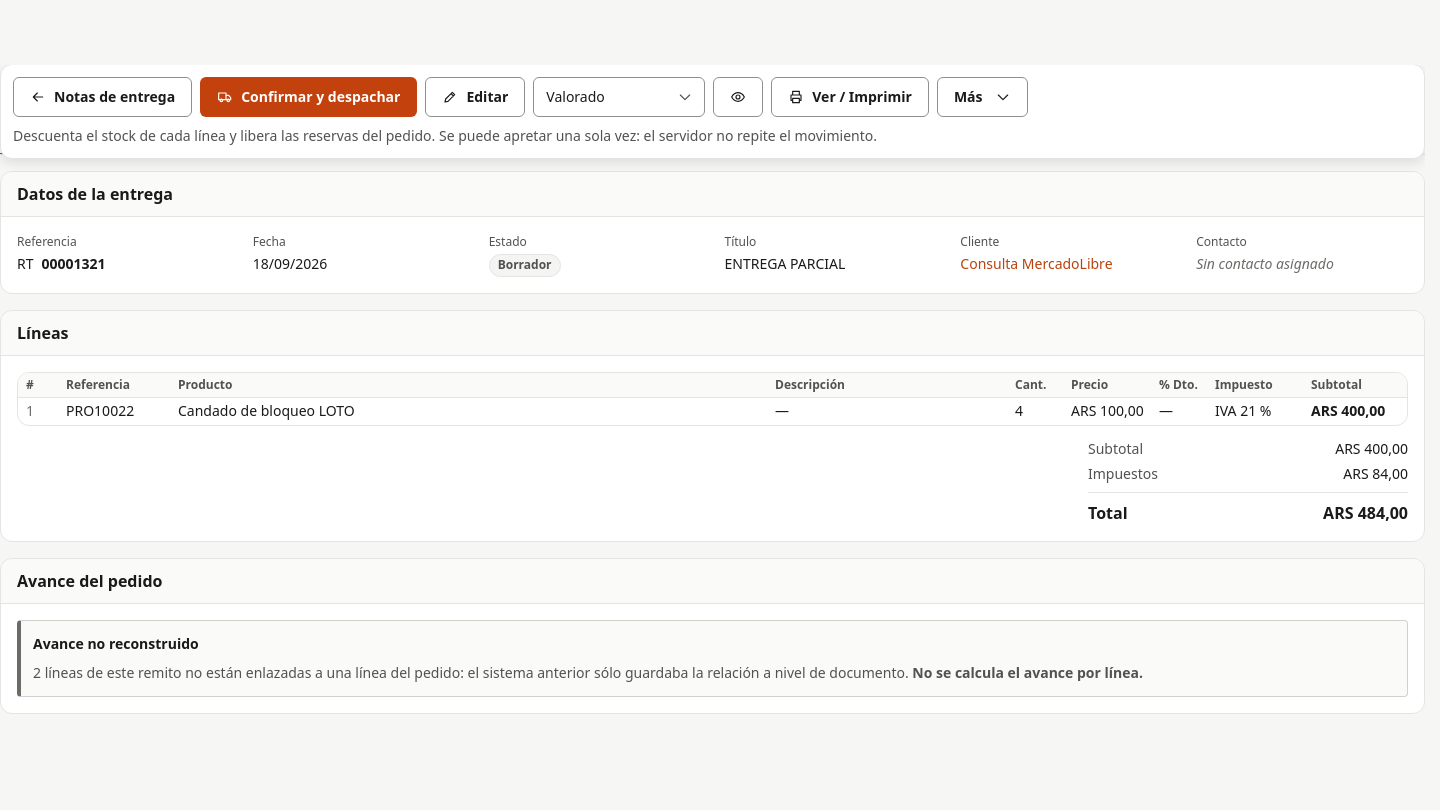
Test: El formulario del remito › es un grupo con nombre, como la cabecera de los otros documentos
This screenshot has width=1440, height=810.
Click the button "Editar".
click(475, 97)  # box [425,77,525,117]
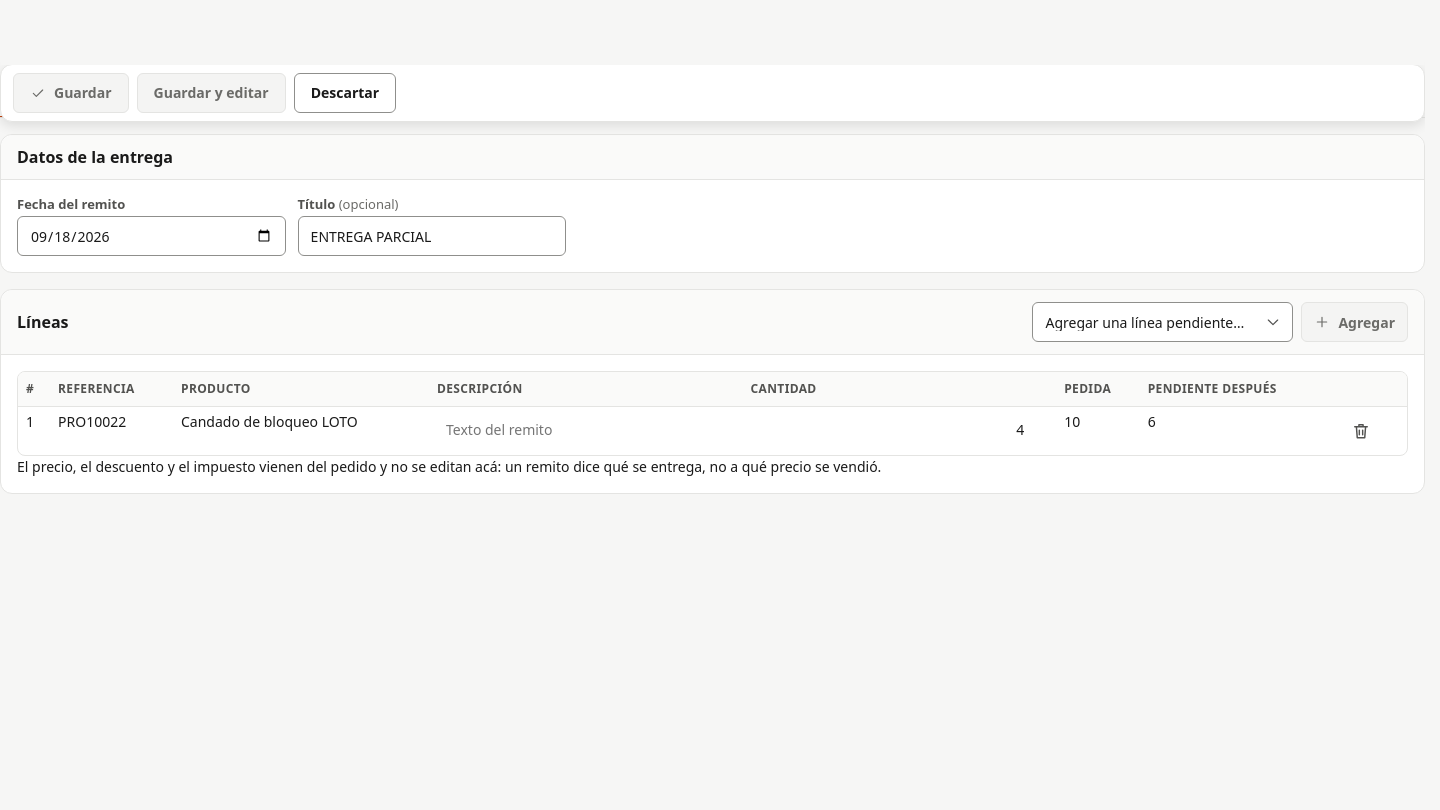
Expected: the element named "Datos de la entrega" is shown, [16,195,566,256]
Expected: the date field labelled "Fecha del remito" is shown, [17,216,286,256]
Expected: the field labelled "Título (opcional)" is shown, [298,216,566,256]
